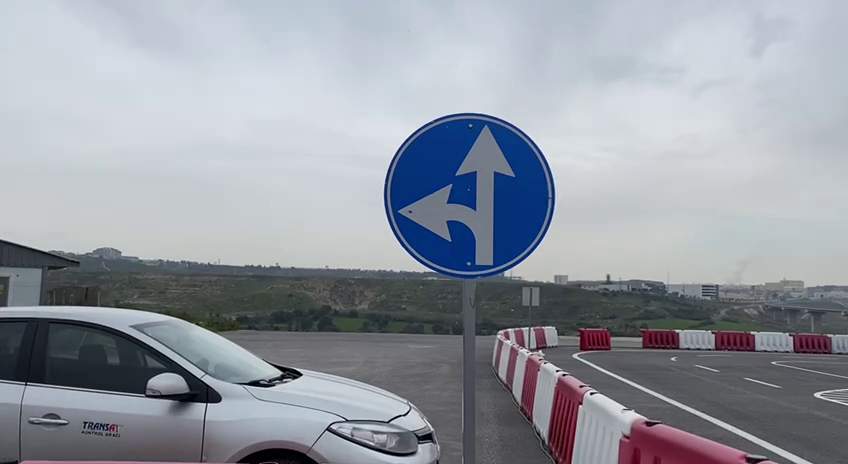forwardAndLeft: (378, 108, 557, 281)
